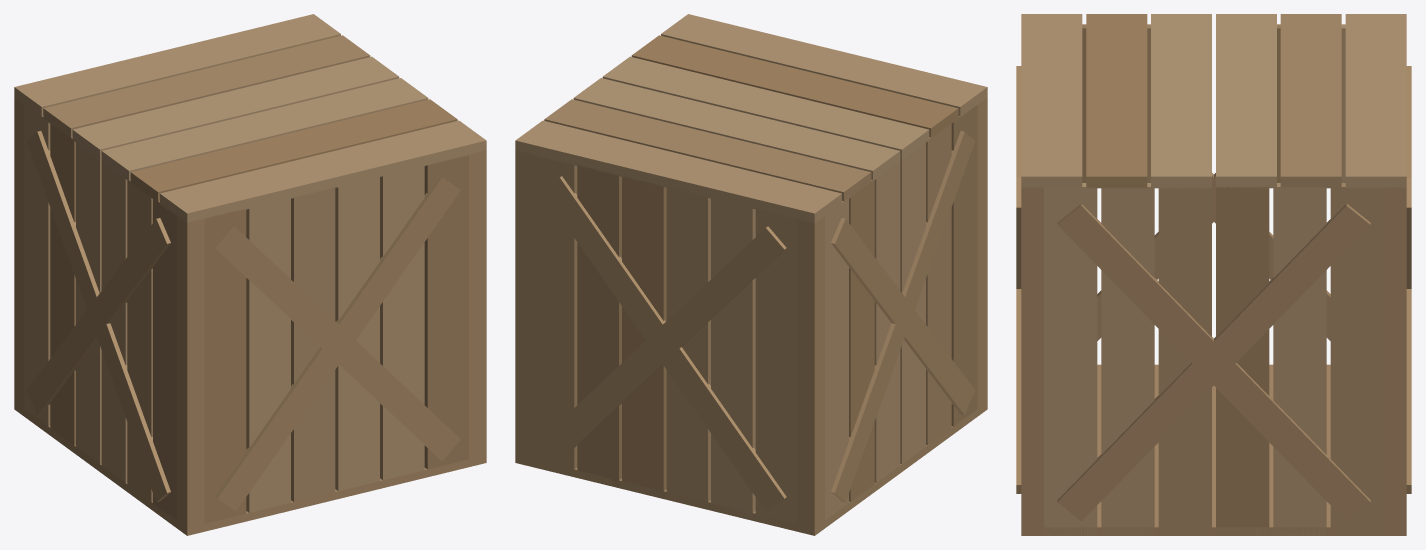
Rendered from wood_crate.glb.
The picture shows the model from 3 angles, left to right: view 1: azimuth 30°, elevation 25°; view 2: azimuth 150°, elevation 25°; view 3: azimuth 270°, elevation 25°; orthographic projection. The views are drawn at different scales.
Parts seen in each view (by area): view 1: WoodCrate; view 2: WoodCrate; view 3: WoodCrate.
Boxes of the visible parts, x1,y1,x2,y2 form: WoodCrate: (14,14,486,535); WoodCrate: (515,14,987,535); WoodCrate: (1016,14,1411,535).
Bounding box in the file's own units: 0.616 × 0.6175 × 0.616.
